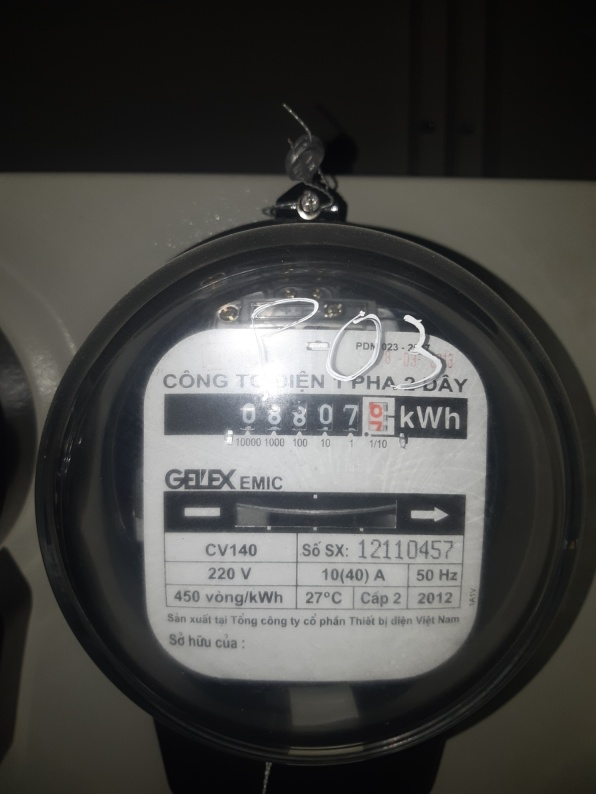counter: (164, 391, 471, 442)
electricity_meter: (39, 222, 590, 748)
